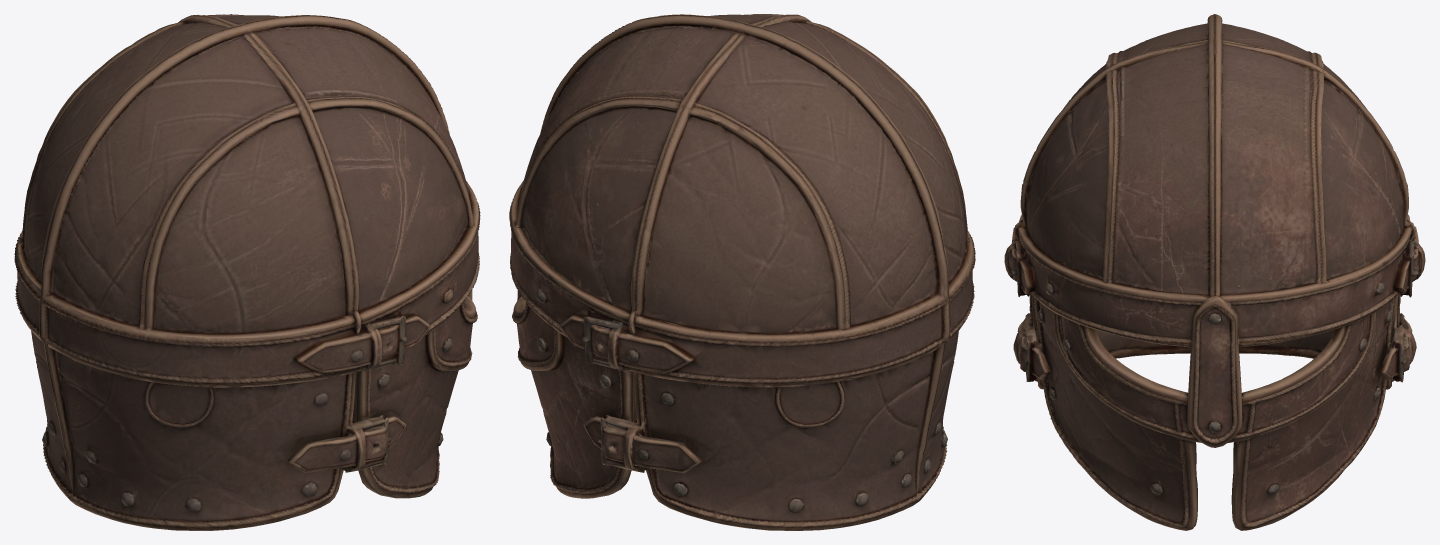
File: helmet01.glb
3 renders of one model, left to right at view 1: azimuth 30°, elevation 25°; view 2: azimuth 150°, elevation 25°; view 3: azimuth 270°, elevation 25°, orthographic. The views are drawn at different scales.
Parts seen in each view (by area): view 1: tripo_node_60701442-eeaa-4124-b0de-ae73607a3c08; view 2: tripo_node_60701442-eeaa-4124-b0de-ae73607a3c08; view 3: tripo_node_60701442-eeaa-4124-b0de-ae73607a3c08.
Boxes of the visible parts, bbox=[...] form: tripo_node_60701442-eeaa-4124-b0de-ae73607a3c08: bbox=[14, 14, 480, 530]; tripo_node_60701442-eeaa-4124-b0de-ae73607a3c08: bbox=[509, 14, 975, 530]; tripo_node_60701442-eeaa-4124-b0de-ae73607a3c08: bbox=[1004, 14, 1425, 530].
Bounding box in the file's own units: 0.9364 × 1 × 0.9032.
1 material, 1 textured.
